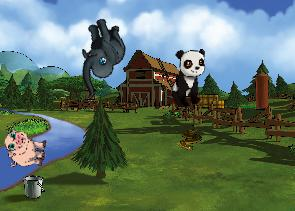elephant: (61, 13, 139, 99)
panda: (170, 47, 207, 109)
pig: (2, 127, 48, 170)
